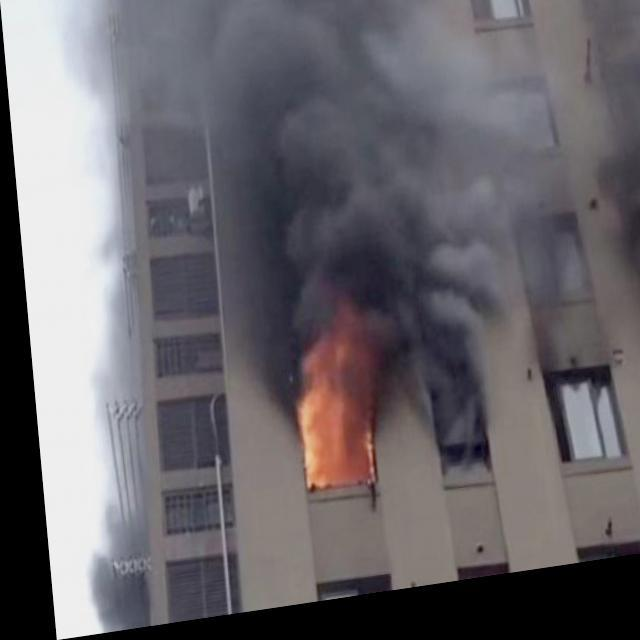Fire: (275, 308, 377, 514)
